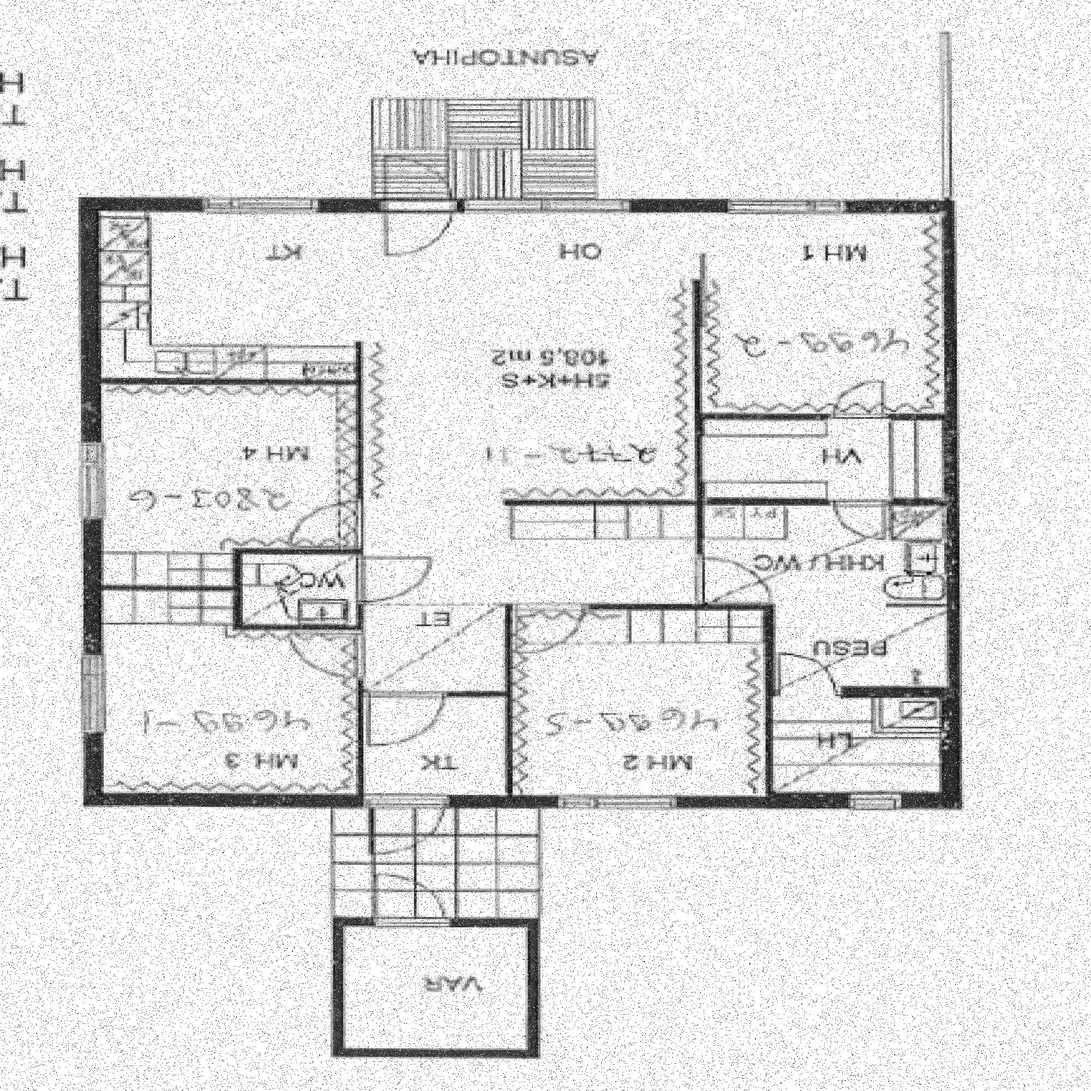wall: (80, 199, 99, 809), (80, 199, 958, 211), (80, 798, 765, 809), (947, 199, 958, 697), (355, 341, 364, 808), (694, 199, 704, 610), (766, 792, 958, 808), (942, 688, 958, 809), (506, 500, 958, 504), (527, 918, 540, 1057), (774, 688, 958, 697), (766, 604, 774, 809), (334, 918, 539, 926), (506, 604, 774, 610), (99, 378, 364, 384), (694, 413, 958, 419), (334, 918, 345, 1057), (334, 1050, 539, 1057), (506, 604, 513, 798), (355, 692, 513, 697), (233, 625, 364, 631), (233, 549, 242, 631), (99, 585, 233, 590), (233, 549, 364, 554)
